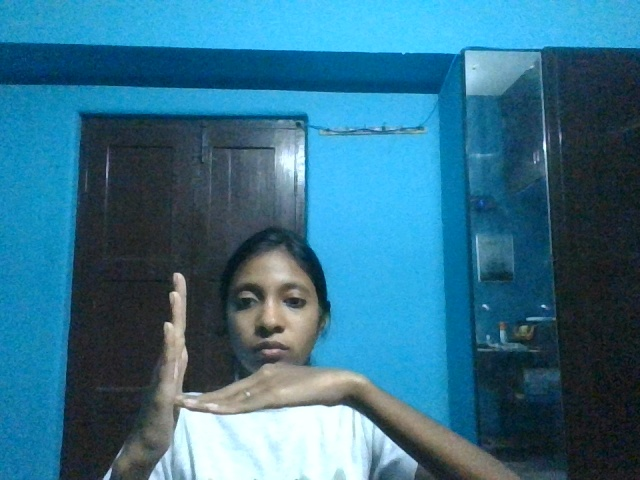Z: (121, 256, 379, 479)
